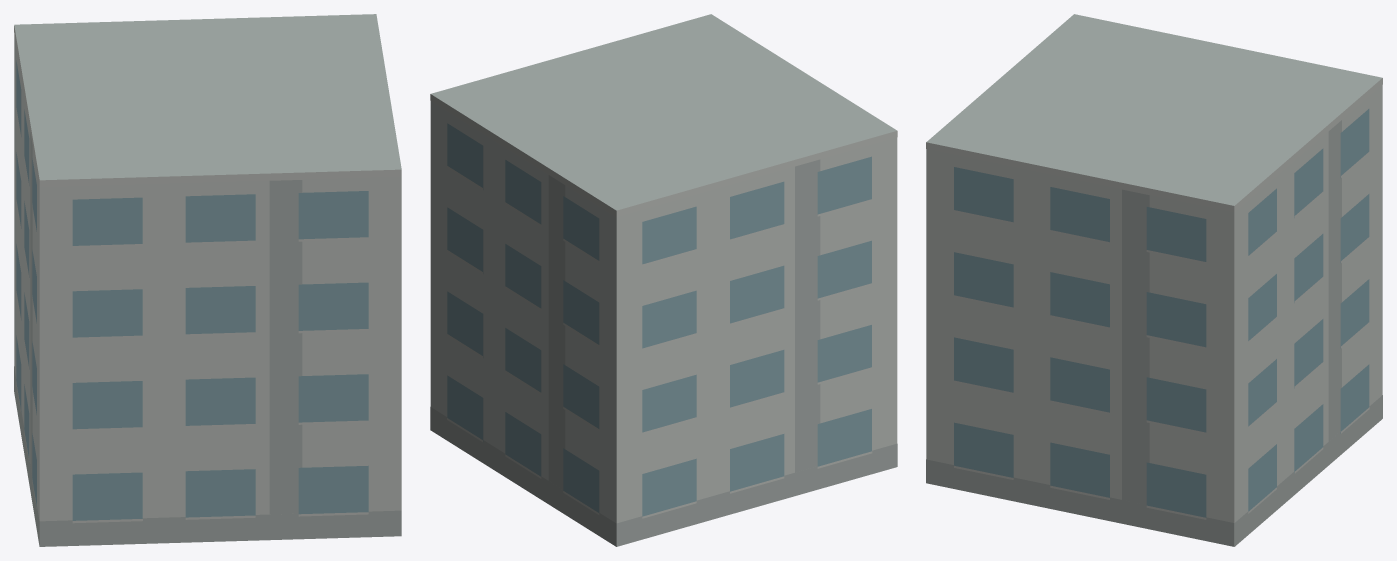
File: residential-61be7d99-fafb-4dbe-8b38-0b8dabb87a68.glb
3 renders of one model, left to right at view 1: azimuth 30°, elevation 25°; view 2: azimuth 150°, elevation 25°; view 3: azimuth 270°, elevation 25°, orthographic. The views are drawn at different scales.
Parts seen in each view (by area): view 1: residential-61be7d99-fafb-4dbe-8b38-0b8dabb87a68.tmp; view 2: residential-61be7d99-fafb-4dbe-8b38-0b8dabb87a68.tmp; view 3: residential-61be7d99-fafb-4dbe-8b38-0b8dabb87a68.tmp.
Part boxes in pixels (x1,y1,x2,y2): residential-61be7d99-fafb-4dbe-8b38-0b8dabb87a68.tmp: (14,14,401,546); residential-61be7d99-fafb-4dbe-8b38-0b8dabb87a68.tmp: (430,14,897,546); residential-61be7d99-fafb-4dbe-8b38-0b8dabb87a68.tmp: (926,14,1382,546).
Size of the model in its own units: 14.74 by 12.2 by 14.82.
